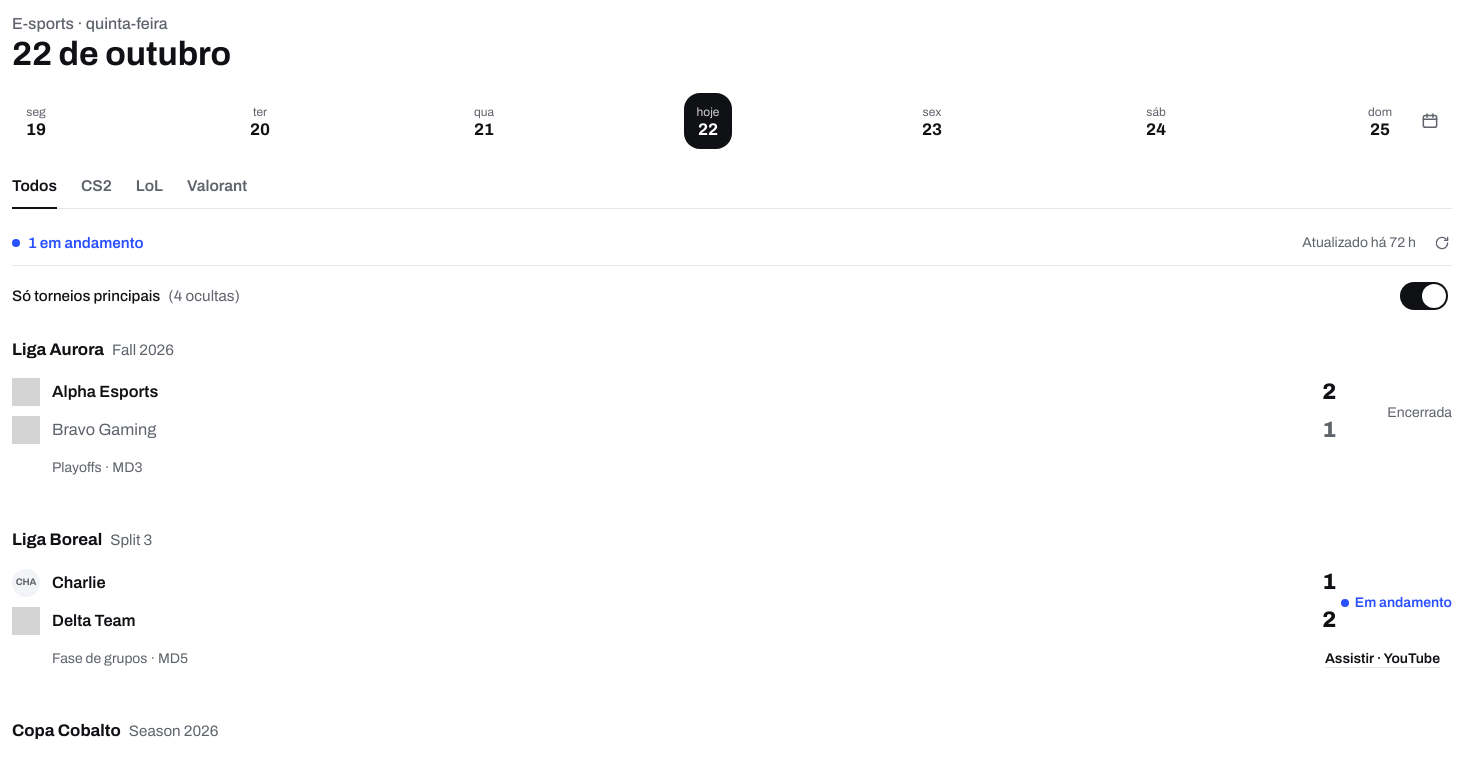
Scenario: EsportsView › desligar o filtro mostra tudo, e o interruptor lembra a escolha
Click the switch named "Só torneios principais" at (1424, 296), box [1396, 274, 1452, 318]
(page scrolled)
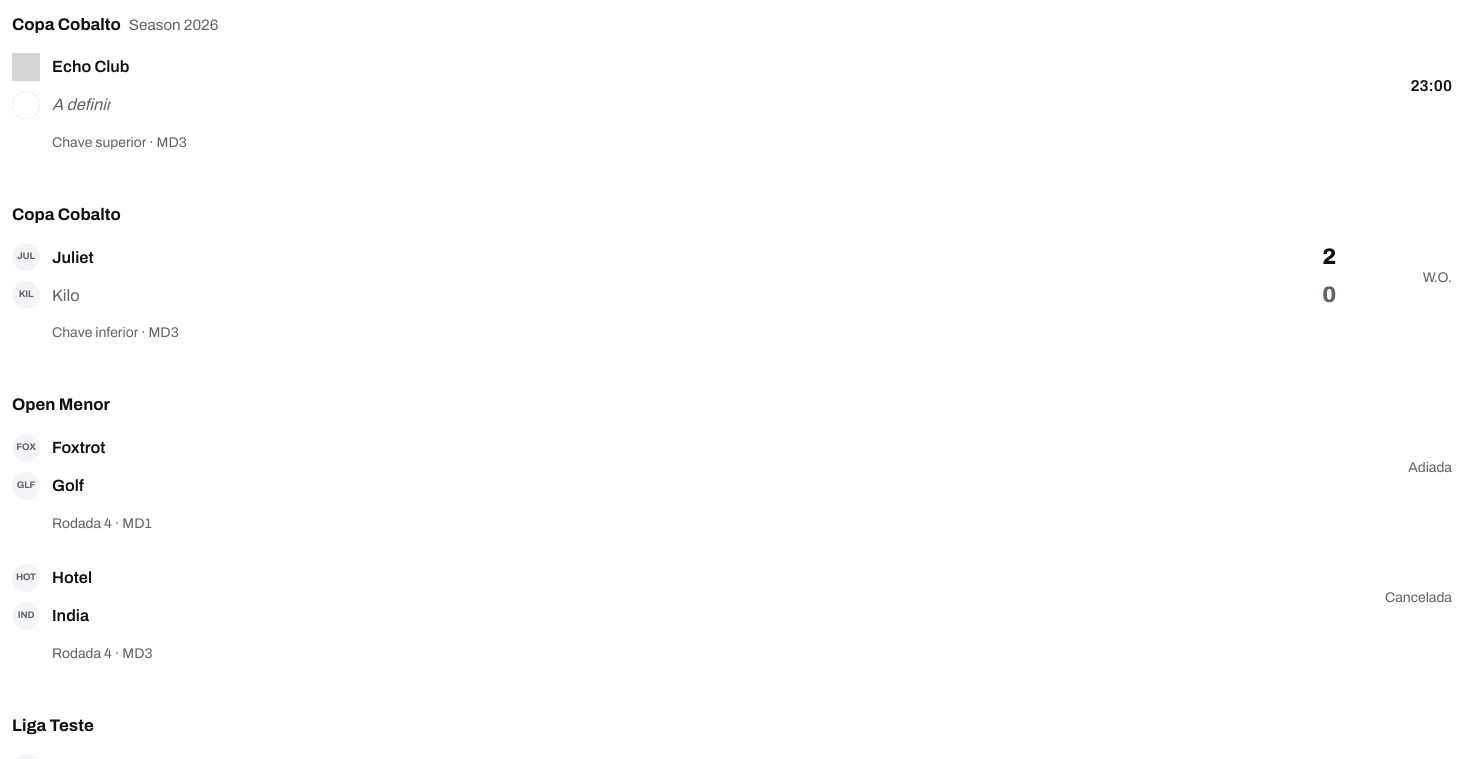
Now the text "(4 ocultas)" is gone
Now the heading "Open Menor" is shown, box [12, 395, 110, 414]
